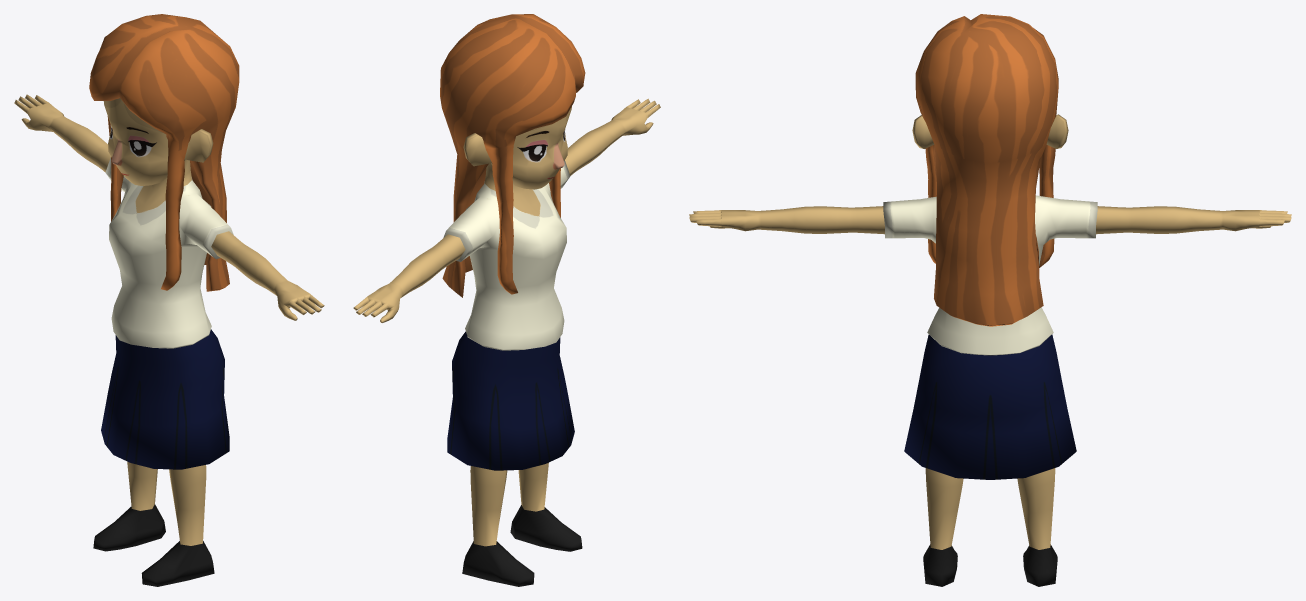
File: girl_4.fbx
3 renders of one model, left to right at view 1: azimuth 30°, elevation 25°; view 2: azimuth 150°, elevation 25°; view 3: azimuth 270°, elevation 25°, orthographic. The views are drawn at different scales.
Parts seen in each view (by area): view 1: girl_4; view 2: girl_4; view 3: girl_4.
Boxes of the visible parts, x1,y1,x2,y2 form: girl_4: [14, 14, 324, 586]; girl_4: [353, 14, 660, 586]; girl_4: [689, 14, 1291, 586].
Bounding box in the file's own units: 34.45 × 137 × 136.
1 material, 1 textured.
